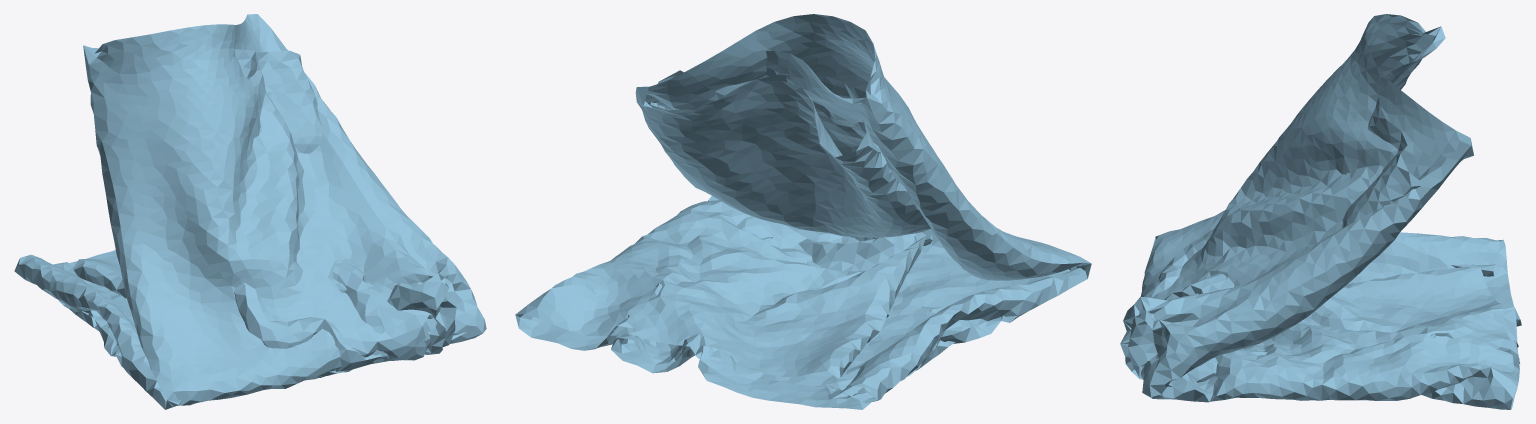
File: frame_17.glb
3 views of the same model, side by side, from view 1: azimuth 30°, elevation 25°; view 2: azimuth 150°, elevation 25°; view 3: azimuth 270°, elevation 25° (orthographic). The views are drawn at different scales.
Parts seen in each view (by area): view 1: frame_17.obj; view 2: frame_17.obj; view 3: frame_17.obj.
Part boxes in pixels (x1,y1,x2,y2): frame_17.obj: (14,14,486,409); frame_17.obj: (515,14,1091,409); frame_17.obj: (1120,14,1521,409).
Bounding box in the file's own units: 0.8915 × 0.727 × 0.9198.
